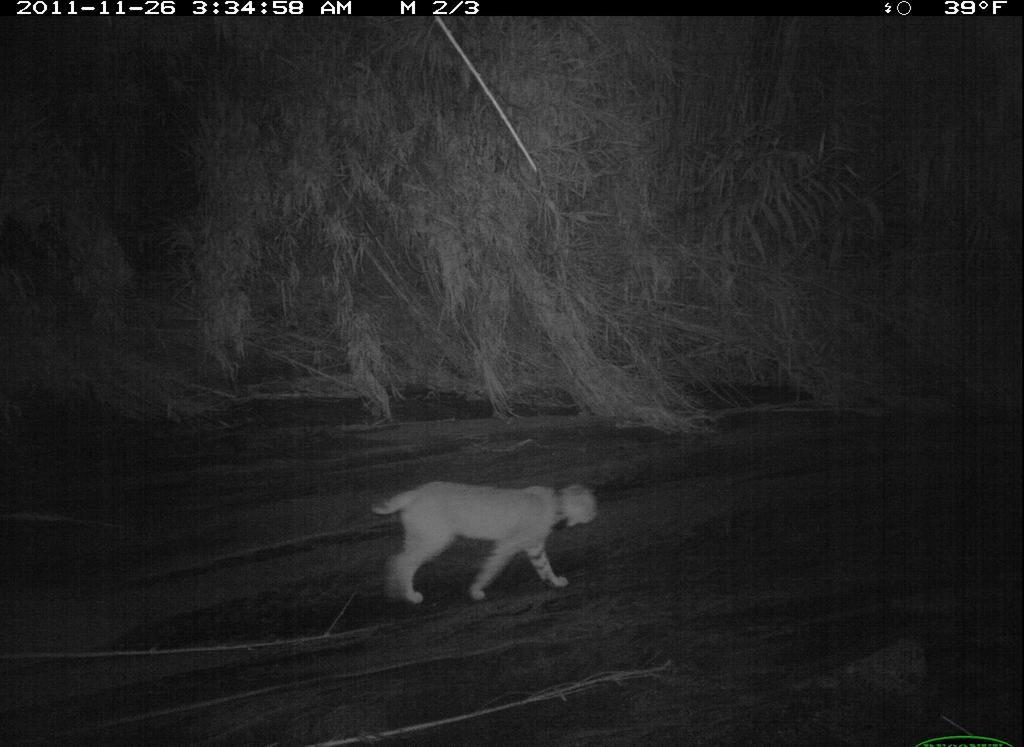bobcat: (369, 479, 602, 609)
